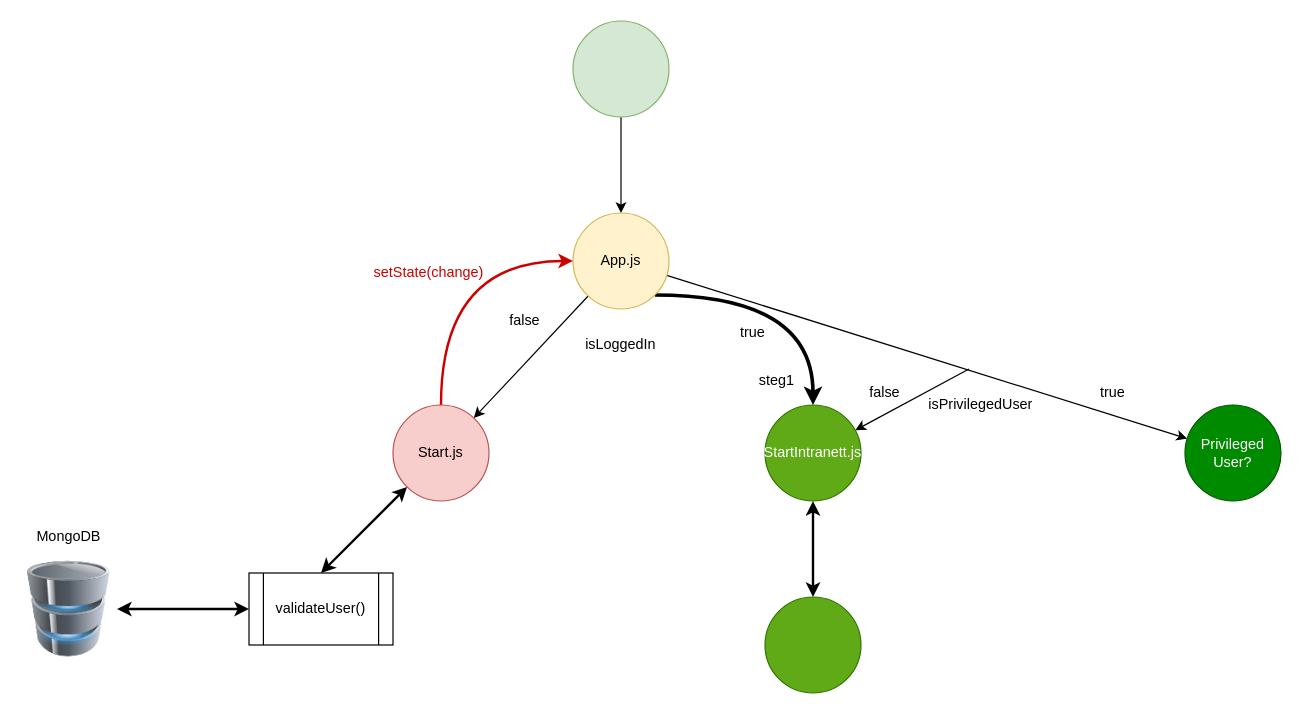
Some shapes in this 1302 by 714 pixel diagram are drawn without their labels. Each missing label, with the box of its shape:
index,js: (572, 20, 669, 117)
Welcome!: (764, 596, 861, 693)
